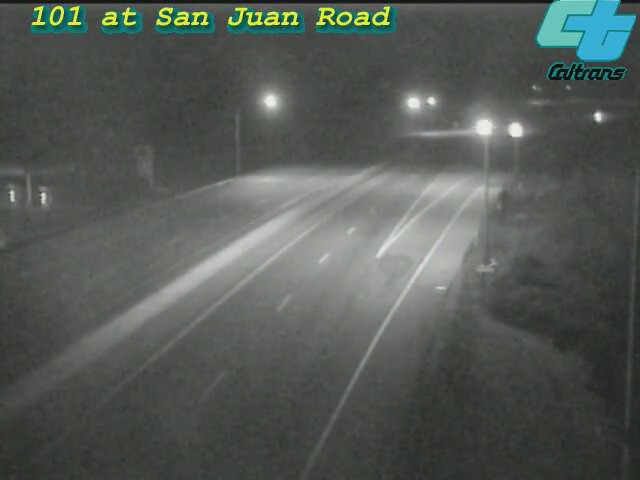vehicle: (574, 92, 624, 142), (456, 103, 506, 153), (491, 105, 541, 155)
